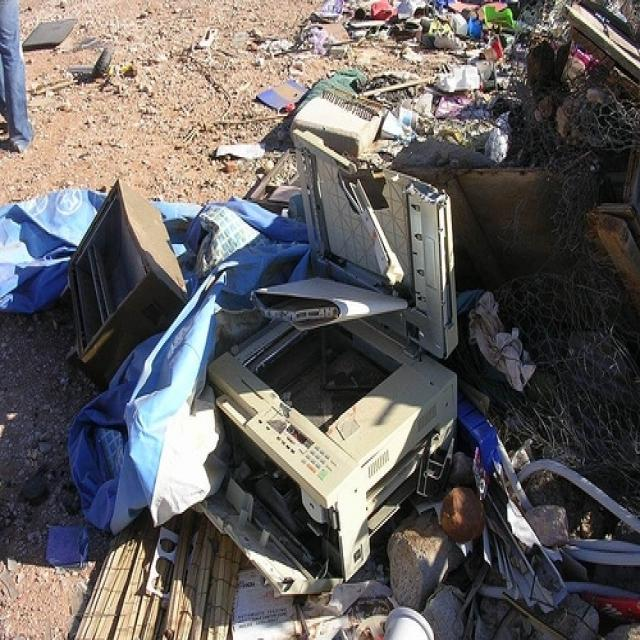E-waste: (62, 79, 619, 640)
